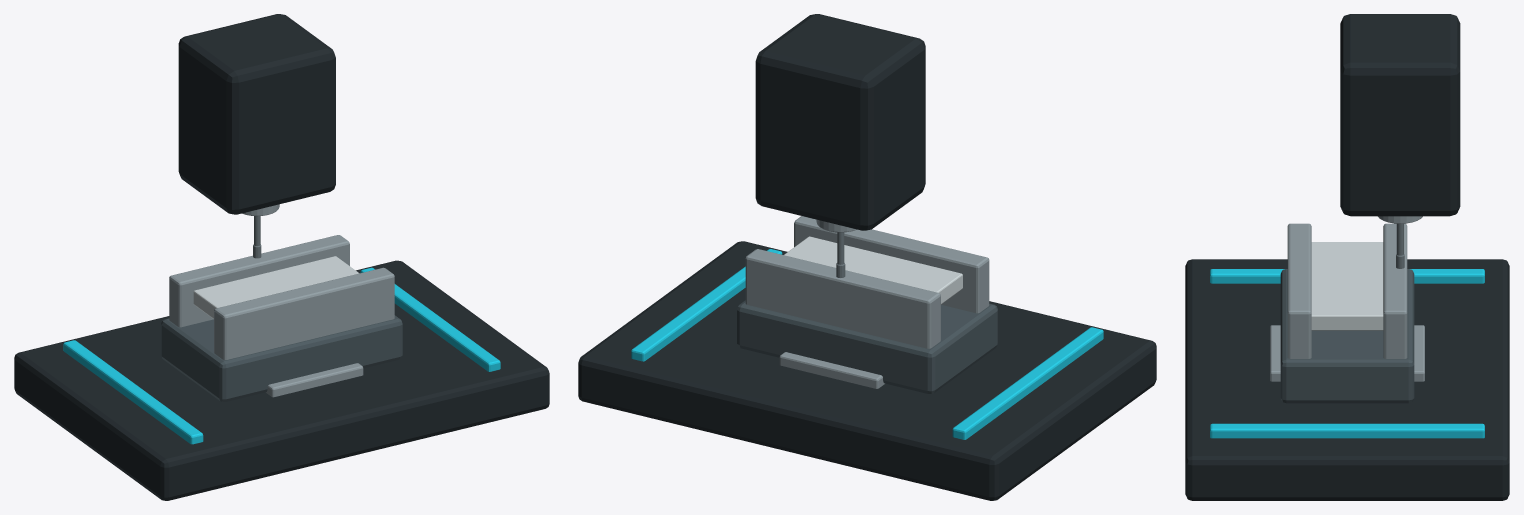
File: toolpath-machining-kit-v1.glb
3 views of the same model, side by side, from view 1: azimuth 30°, elevation 25°; view 2: azimuth 150°, elevation 25°; view 3: azimuth 270°, elevation 25° (orthographic). The views are drawn at different scales.
Visible parts, largest first — view 1: machine.table, machine.spindle.body, fixture.vise.body, fixture.vise.jaw_moving, fixture.vise.jaw_fixed, stock.block.flagship; view 2: machine.table, machine.spindle.body, fixture.vise.body, fixture.vise.jaw_fixed, fixture.vise.jaw_moving, stock.block.flagship; view 3: machine.table, machine.spindle.body, fixture.vise.body, stock.block.flagship, fixture.vise.jaw_moving, fixture.vise.jaw_fixed, tool.endmill.flat.010.
Boxes of the visible parts, x1,y1,x2,y2 form: machine.table: [14, 260, 549, 500]; machine.spindle.body: [178, 14, 335, 216]; fixture.vise.body: [161, 315, 402, 401]; fixture.vise.jaw_moving: [214, 267, 394, 360]; fixture.vise.jaw_fixed: [169, 235, 349, 327]; stock.block.flagship: [193, 256, 359, 318]; machine.table: [578, 241, 1156, 500]; machine.spindle.body: [755, 14, 925, 232]; fixture.vise.body: [737, 300, 997, 393]; fixture.vise.jaw_fixed: [745, 249, 940, 348]; fixture.vise.jaw_moving: [794, 216, 989, 313]; stock.block.flagship: [784, 236, 962, 304]; machine.table: [1185, 259, 1509, 500]; machine.spindle.body: [1340, 14, 1460, 223]; fixture.vise.body: [1270, 269, 1424, 403]; stock.block.flagship: [1311, 242, 1383, 330]; fixture.vise.jaw_moving: [1287, 223, 1311, 358]; fixture.vise.jaw_fixed: [1383, 223, 1407, 358]; tool.endmill.flat.010: [1396, 223, 1404, 268].
Size of the model in its own units: 680 by 570 by 460.
